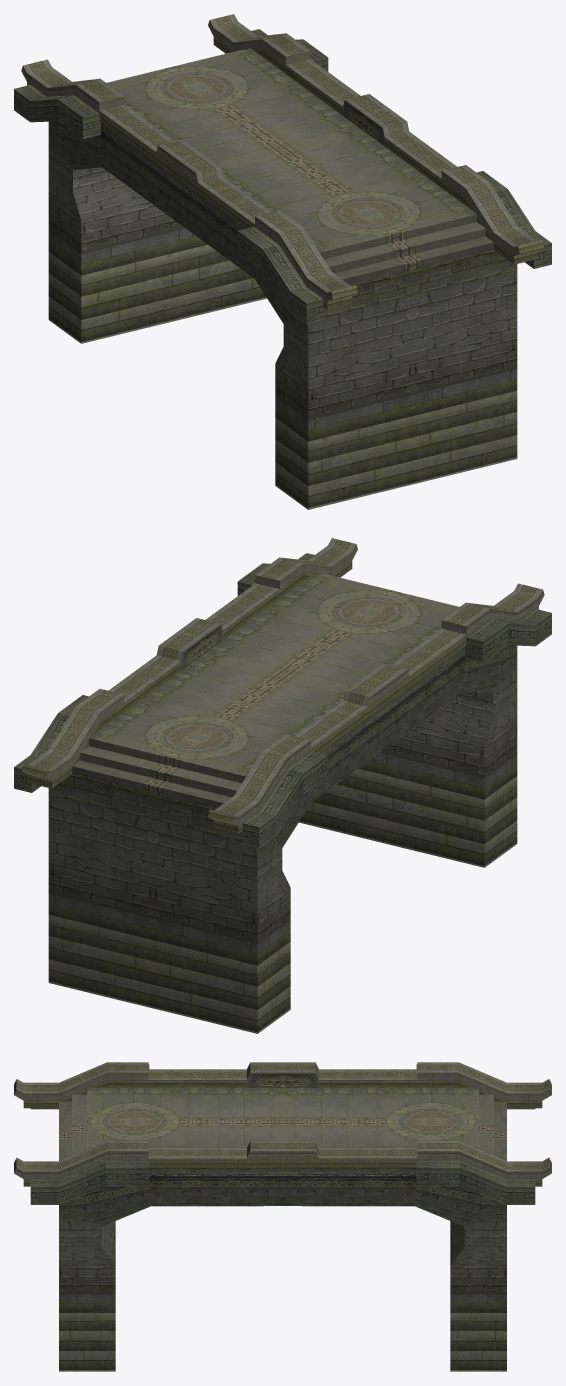
The model's file is S7_new_baizhan_shiqiao01.FBX.
The picture shows the model from 3 angles, top to bottom: view 1: azimuth 30°, elevation 25°; view 2: azimuth 150°, elevation 25°; view 3: azimuth 270°, elevation 25°; orthographic projection. The views are drawn at different scales.
Visible parts, largest first — view 1: Object016; view 2: Object016; view 3: Object016.
Part boxes in pixels (left/top/right/bottom): Object016: left=14, top=14, right=551, bottom=509; Object016: left=14, top=538, right=551, bottom=1033; Object016: left=14, top=1062, right=551, bottom=1371.
Bounding box in the file's own units: 19.38 × 19.31 × 42.64.
1 material, 1 textured.
